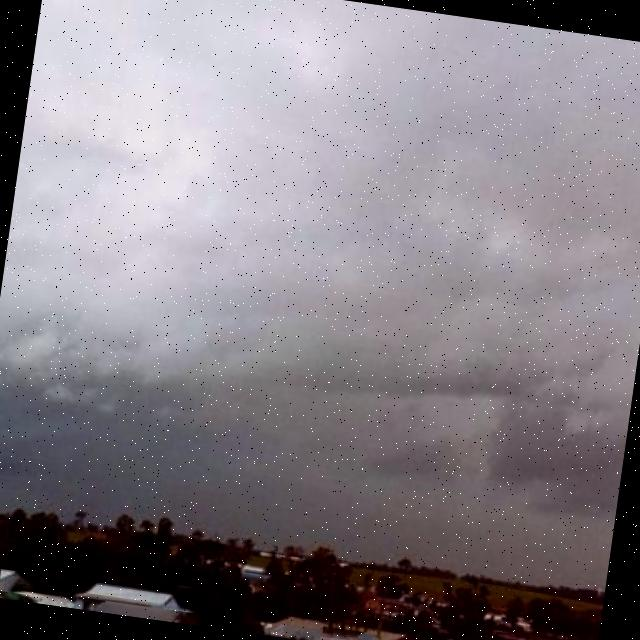Ns: (1, 1, 640, 535)
